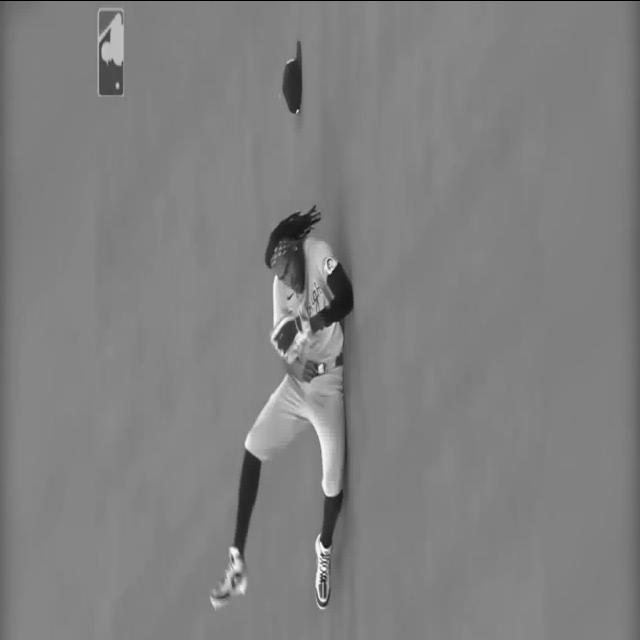baseball_glove: (270, 307, 310, 356)
shoe: (211, 550, 247, 606), (310, 528, 334, 608)
